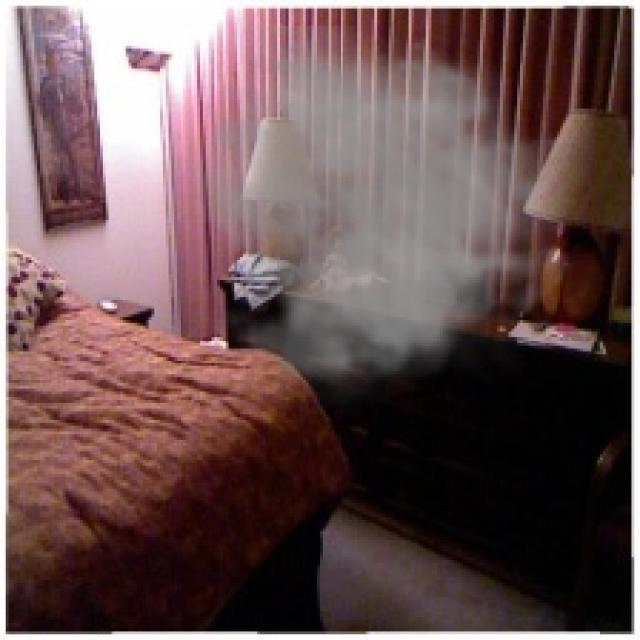Smoke: (182, 26, 578, 417)
